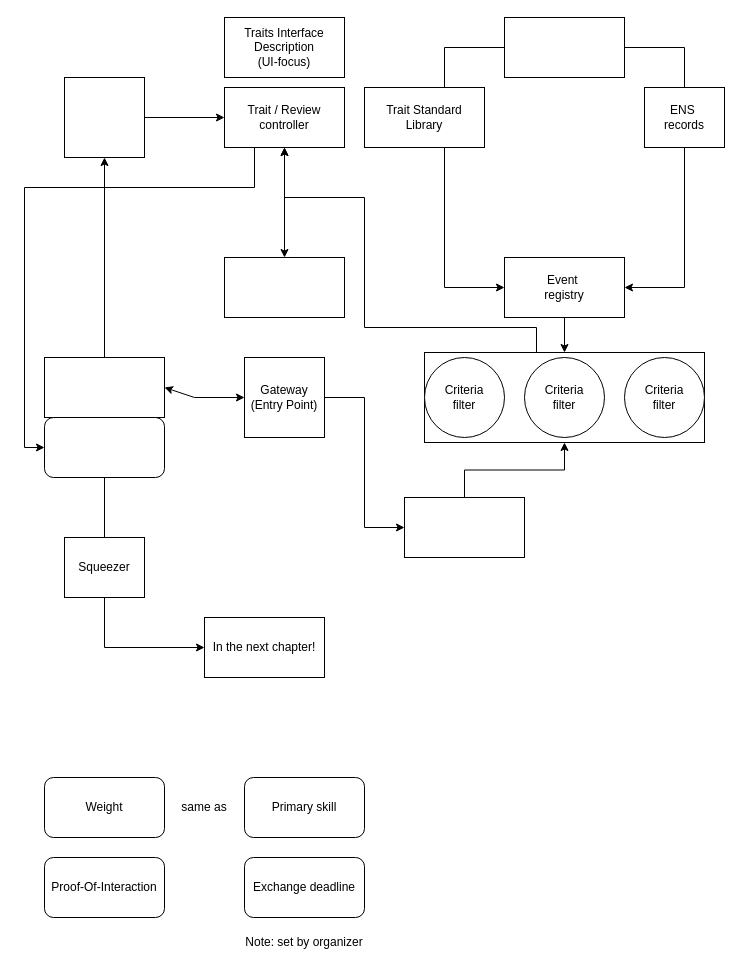
Image size: 742x975. Some labels were removed from this diagram. The centre of each missing label's shape, as x and y in pixels:
(Container) Event-Traits collection / Pass: the point at 104,447
Filters executor: the point at 464,527
Organizer: the point at 564,47
Participant: the point at 104,387
Trait Registry: the point at 284,287
Verifier: the point at 104,117
